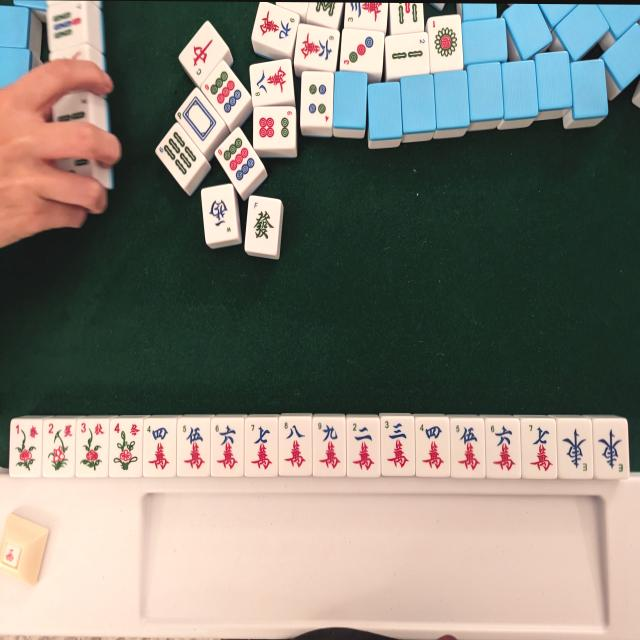east: (596, 420, 626, 478), (560, 421, 590, 479)
ff1: (12, 420, 40, 475)
ff2: (43, 421, 75, 477)
ff3: (76, 419, 108, 476)
ff4: (109, 420, 142, 477)
m2: (347, 419, 379, 476)
m3: (382, 417, 414, 475)
m4: (144, 419, 176, 477), (417, 419, 448, 476)
m5: (178, 419, 209, 476), (453, 419, 482, 476)
m6: (211, 418, 243, 475), (487, 419, 518, 476)
m7: (522, 420, 556, 478), (244, 419, 277, 475)
m8: (278, 417, 310, 476)
m9: (313, 418, 345, 477)
